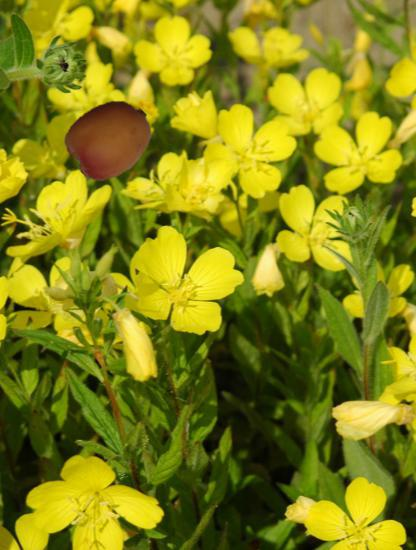Apricot: (65, 95, 152, 182)
